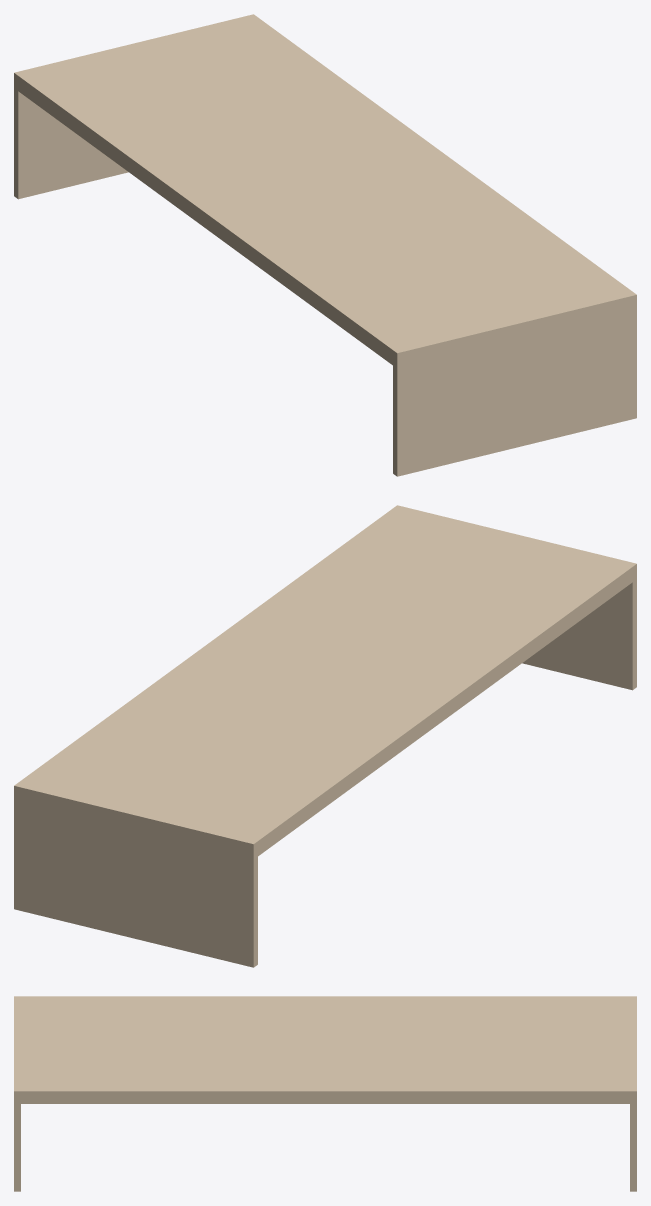
Rendered from throw-bed-1800.glb.
The picture shows the model from 3 angles, top to bottom: view 1: azimuth 30°, elevation 25°; view 2: azimuth 150°, elevation 25°; view 3: azimuth 270°, elevation 25°; orthographic projection. The views are drawn at different scales.
Parts seen in each view (by area): view 1: throw-bed-1800; view 2: throw-bed-1800; view 3: throw-bed-1800.
Part boxes in pixels (box(x1,y1,x2,y2)): throw-bed-1800: box(14, 14, 636, 476); throw-bed-1800: box(14, 505, 636, 967); throw-bed-1800: box(14, 996, 636, 1191).
Size of the model in its own units: 0.65 by 0.32 by 1.8.
